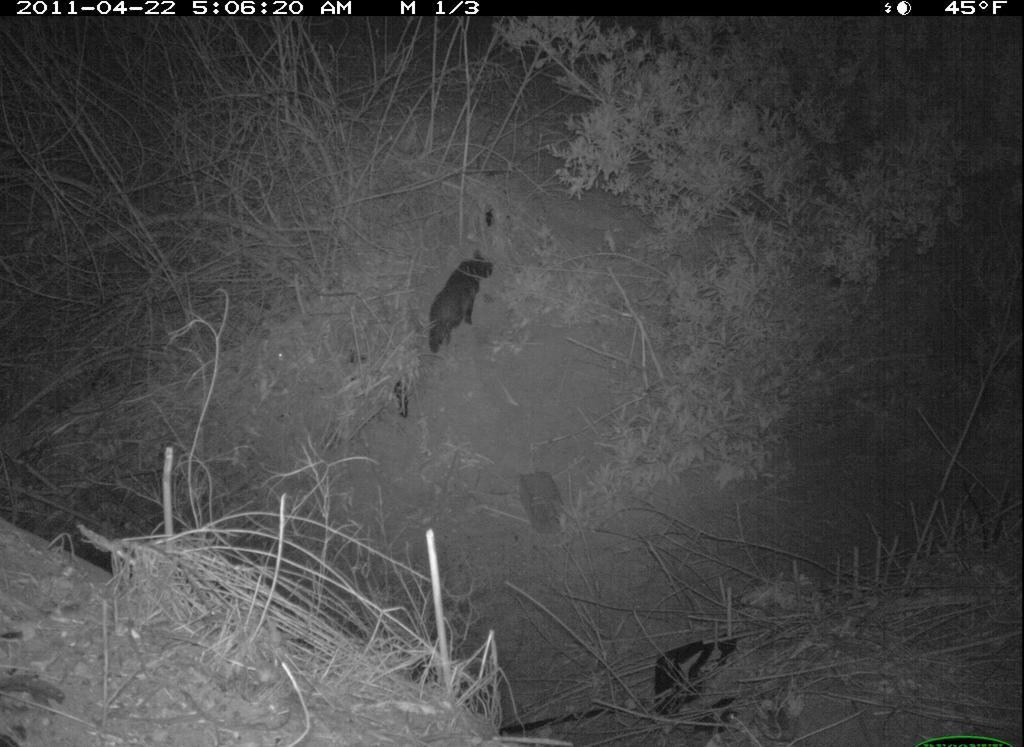cat: (420, 248, 500, 356)
